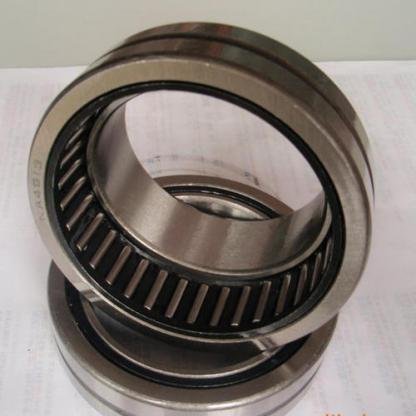FOD: (21, 17, 384, 359), (38, 165, 346, 415)
